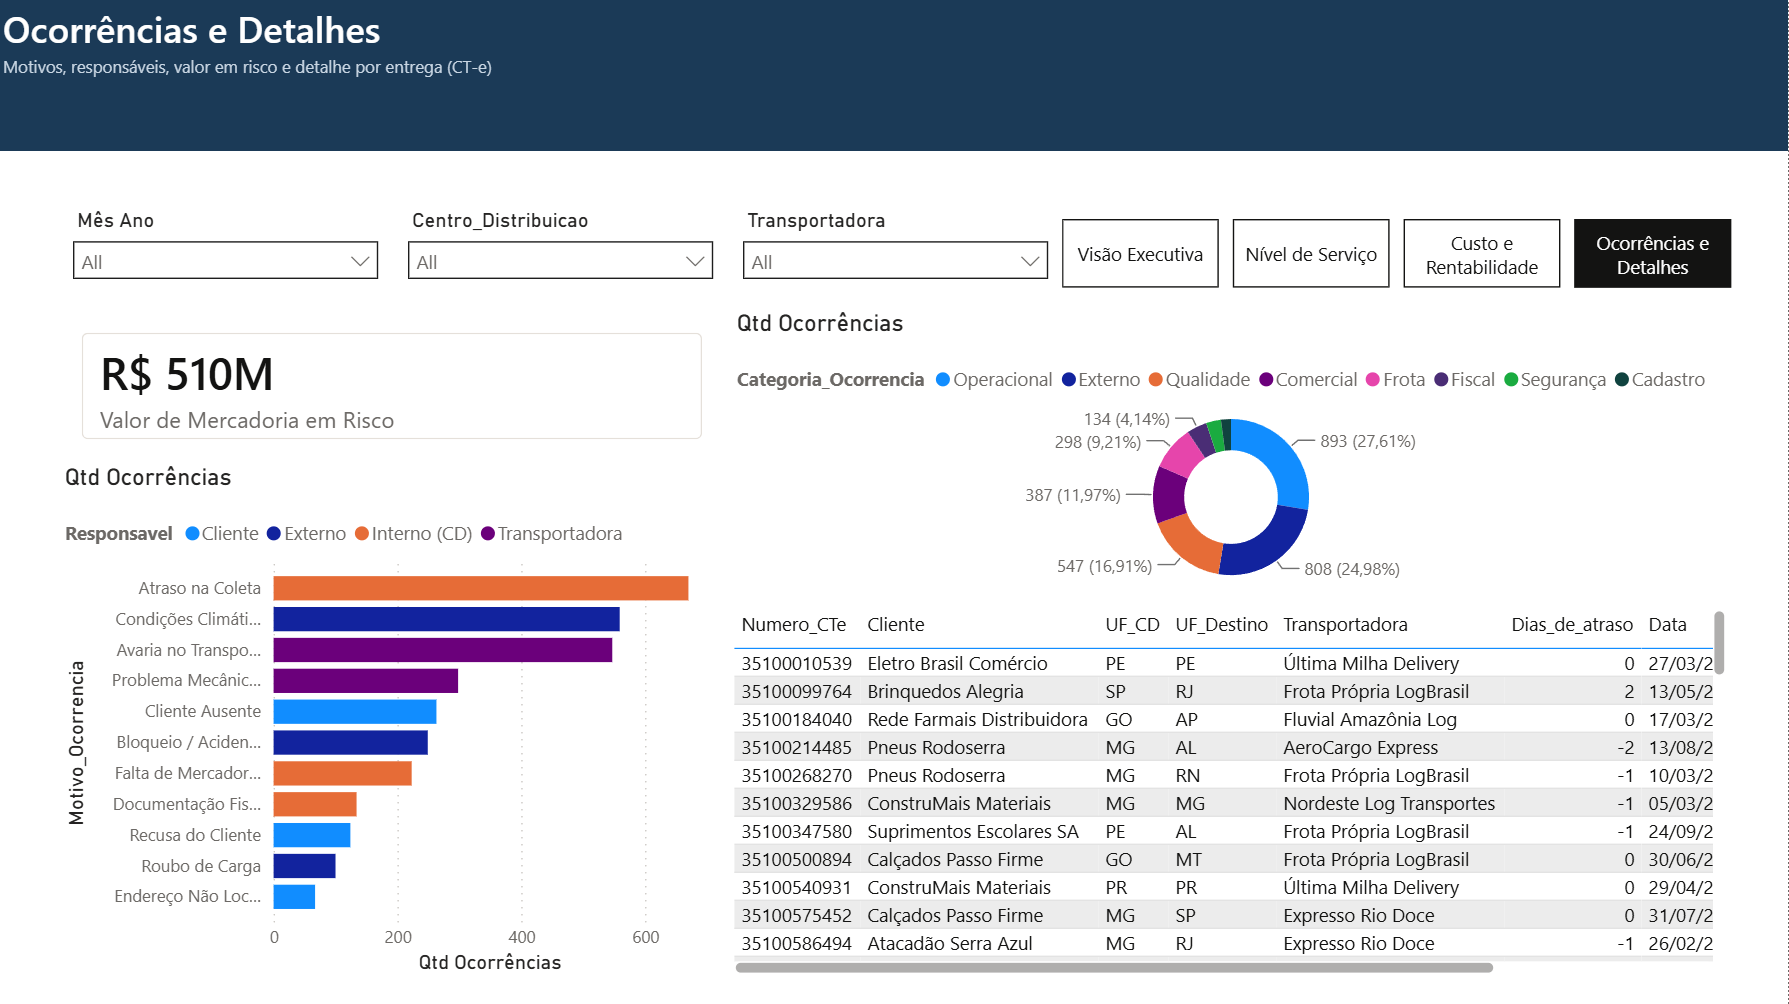

Layout of this report page (visuals, bound fields, positions):
{"tool":"powerbi","page":{"name":"Ocorrências e Detalhes","canvas":[1280,720],"ordinal":3},"visuals":[{"type":"pageNavigator","box":[761.5,158.5,478.9,50],"z":0},{"type":"slicer","fields":{"Values":["dCalendario.Mês Ano"]},"box":[44.8,146.4,237.7,75.8],"z":1000},{"type":"slicer","fields":{"Values":["dCentroDistribuicao.Centro_Distribuicao"]},"box":[284.3,146.4,237.7,75.8],"z":2000},{"type":"slicer","fields":{"Values":["dTransportadora.Transportadora"]},"box":[523.7,146.4,237.7,75.8],"z":3000},{"type":"barChart","title":"Qtd Ocorrências","fields":{"Category":["dOcorrencia.Motivo_Ocorrencia"],"Series":["dOcorrencia.Responsavel"],"Y":["_Medidas.Qtd Ocorrências"]},"box":[44.3,332.9,478.6,370],"z":4000},{"type":"donutChart","title":"Qtd Ocorrências","fields":{"Category":["dOcorrencia.Categoria_Ocorrencia"],"Y":["_Medidas.Qtd Ocorrências"]},"box":[524.3,222.9,715.7,210],"z":5000},{"type":"cardVisual","fields":{"Data":["_Medidas.Valor de Mercadoria em Risco"]},"box":[44.3,222.9,477.1,110],"z":6000},{"type":"tableEx","fields":{"Values":["fEntregas.Numero_CTe","dCliente.Cliente","dCentroDistribuicao.UF_CD","dDestino.UF_Destino","dTransportadora.Transportadora","fEntregas.Dias_de_atraso","dCalendario.Data","fEntregas.Valor_Frete","fEntregas.Custo_Frete"]},"box":[521.4,432.9,718.6,270],"z":7000},{"type":"textbox","box":[0,0,1280,110],"z":8000}]}

Visuals, with their boxes in screenshot pixels (x1, y1, x2, y2), scaled from the page's 1280x720 canvas onto the 1789x1004 screenshot:
pageNavigator: pyautogui.locateOnScreen(1064, 221, 1734, 291)
slicer - dCalendario.Mês Ano: pyautogui.locateOnScreen(63, 204, 395, 310)
slicer - dCentroDistribuicao.Centro_Distribuicao: pyautogui.locateOnScreen(397, 204, 730, 310)
slicer - dTransportadora.Transportadora: pyautogui.locateOnScreen(732, 204, 1064, 310)
"Qtd Ocorrências" barChart: pyautogui.locateOnScreen(62, 464, 731, 980)
"Qtd Ocorrências" donutChart: pyautogui.locateOnScreen(733, 311, 1733, 604)
cardVisual - _Medidas.Valor de Mercadoria em Risco: pyautogui.locateOnScreen(62, 311, 729, 464)
tableEx - fEntregas.Numero_CTe x dCliente.Cliente: pyautogui.locateOnScreen(729, 604, 1733, 980)
textbox: pyautogui.locateOnScreen(0, 0, 1788, 153)
